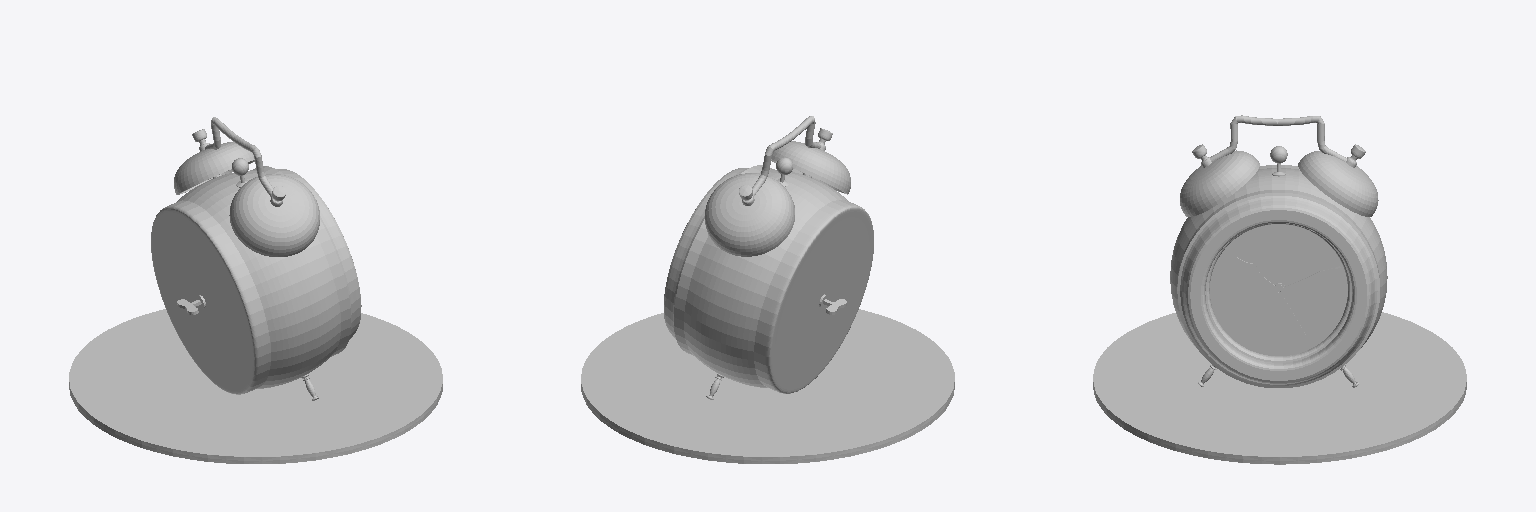
File: clock_10.obj
3 views of the same model, side by side, from view 1: azimuth 30°, elevation 25°; view 2: azimuth 150°, elevation 25°; view 3: azimuth 270°, elevation 25° (orthographic).
Parts seen in each view (by area): view 1: base, case, bellL, bellR, handle; view 2: base, case, bellR, bellL, handle; view 3: base, case, face, bellL, bellR, handle, hands.
Boxes of the visible parts, box(x1,y1,x2,y2) form: base: box(69, 309, 442, 463); case: box(151, 166, 361, 394); bellL: box(229, 174, 319, 256); bellR: box(174, 142, 254, 194); handle: box(205, 117, 273, 197); base: box(581, 309, 954, 463); case: box(664, 165, 873, 393); bellR: box(705, 173, 794, 256); bellL: box(771, 141, 850, 194); handle: box(752, 116, 820, 196); base: box(1093, 312, 1466, 464); case: box(1170, 165, 1387, 387); face: box(1210, 224, 1347, 355); bellL: box(1180, 150, 1259, 216); bellR: box(1298, 151, 1378, 216); handle: box(1210, 115, 1346, 161); hands: box(1236, 257, 1340, 339).
Size of the model in its own units: 207 by 158 by 207.